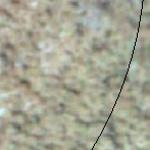alive: (1, 1, 148, 149)
